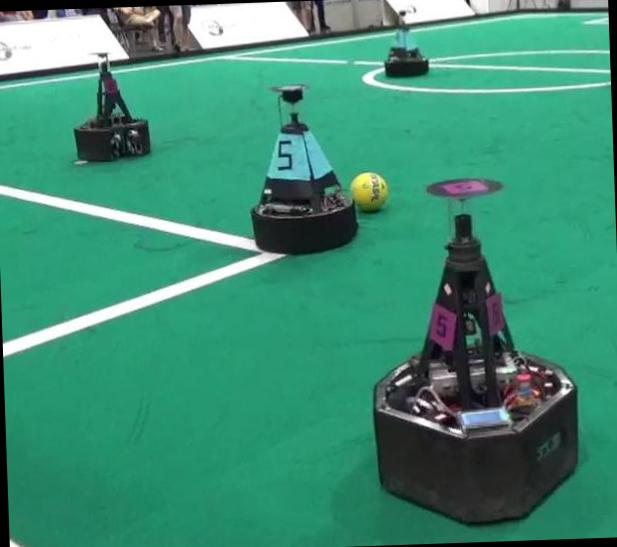ball: (349, 171, 387, 211)
robot: (374, 177, 578, 521), (251, 85, 358, 251), (74, 64, 149, 160), (384, 10, 428, 77)
